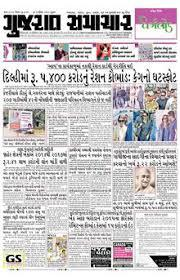Printing industry: (4, 12, 180, 280)
